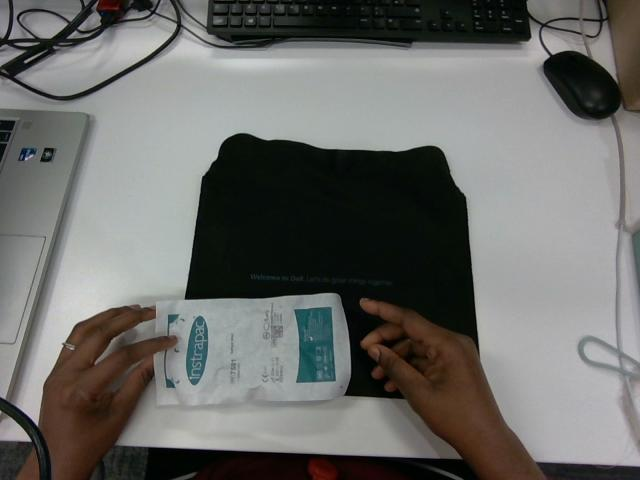gallipot: (154, 293, 350, 404)
